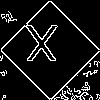X: (25, 25, 58, 71)
